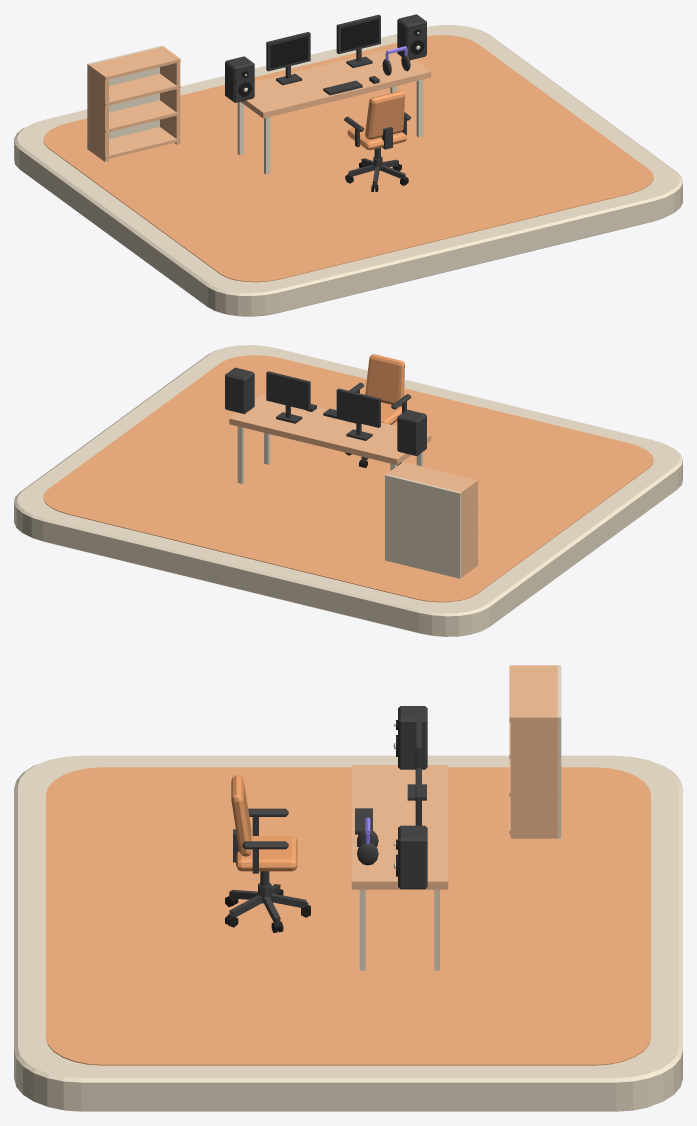
Rendered from room.fbx.
3 views of the same model, one above another, from view 1: azimuth 30°, elevation 25°; view 2: azimuth 150°, elevation 25°; view 3: azimuth 270°, elevation 25° (orthographic). The views are drawn at different scales.
Visible parts, largest first — view 1: COM-02 Floor Surface, COM-01 Rounded Base Direct, Top, COM-04_Chair_blender_direct, Side, Frame.001, Frame, Back, Shelf.003, Shelf, Shelf.001, Shelf.002 (+3 smaller); view 2: COM-02 Floor Surface, COM-01 Rounded Base Direct, Back, Top, COM-04_Chair_blender_direct, Frame, Frame.001, Side, Enclosure, Enclosure.001, Shelf.003; view 3: COM-02 Floor Surface, COM-01 Rounded Base Direct, Top, COM-04_Chair_blender_direct, Side.001, Shelf.003, Enclosure.001, Enclosure, Back.
Part boxes in pixels (x1,y1,x2,y2): COM-02 Floor Surface: (43,35,653,282); COM-01 Rounded Base Direct: (14,25,682,316); Top: (237,47,431,174); COM-04_Chair_blender_direct: (344,91,411,192); Side: (88,63,108,161); Frame.001: (336,14,380,68); Frame: (266,32,310,85); Back: (87,45,163,149); Shelf.003: (88,47,180,80); Shelf: (87,127,180,159); Shelf.001: (87,100,180,132); Shelf.002: (87,73,180,106); COM-02 Floor Surface: (43,355,653,602); COM-01 Rounded Base Direct: (14,345,682,636); Back: (385,474,461,578); Top: (229,393,431,483); COM-04_Chair_blender_direct: (345,354,411,467); Frame: (336,388,380,440); Frame.001: (266,371,310,423); Side: (457,479,477,577); Enclosure: (397,409,426,456); Enclosure.001: (225,367,254,414); Shelf.003: (390,462,478,495); COM-02 Floor Surface: (46,767,650,1065); COM-01 Rounded Base Direct: (14,755,682,1111); Top: (351,765,448,970); COM-04_Chair_blender_direct: (225,775,310,932); Side.001: (510,715,557,838); Shelf.003: (509,665,560,721); Enclosure.001: (398,825,427,889); Enclosure: (398,706,427,769); Back: (557,665,561,838).
Bounding box in the file's own units: 600 × 165 × 520.
